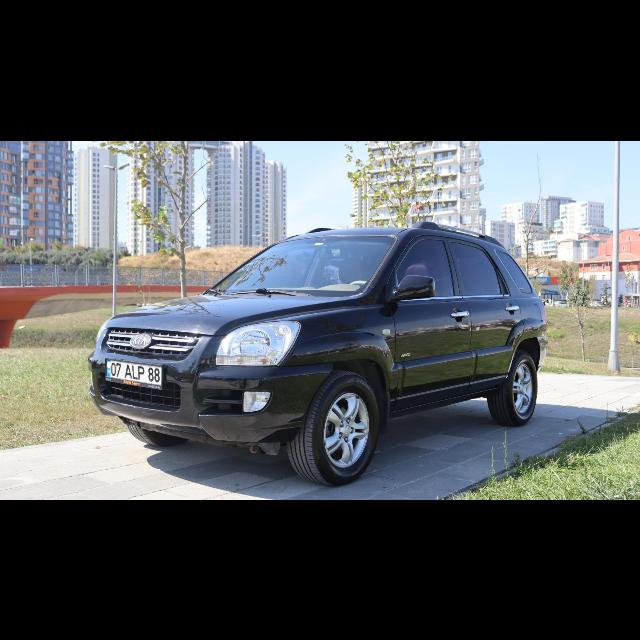Plaka: (105, 358, 161, 384)
